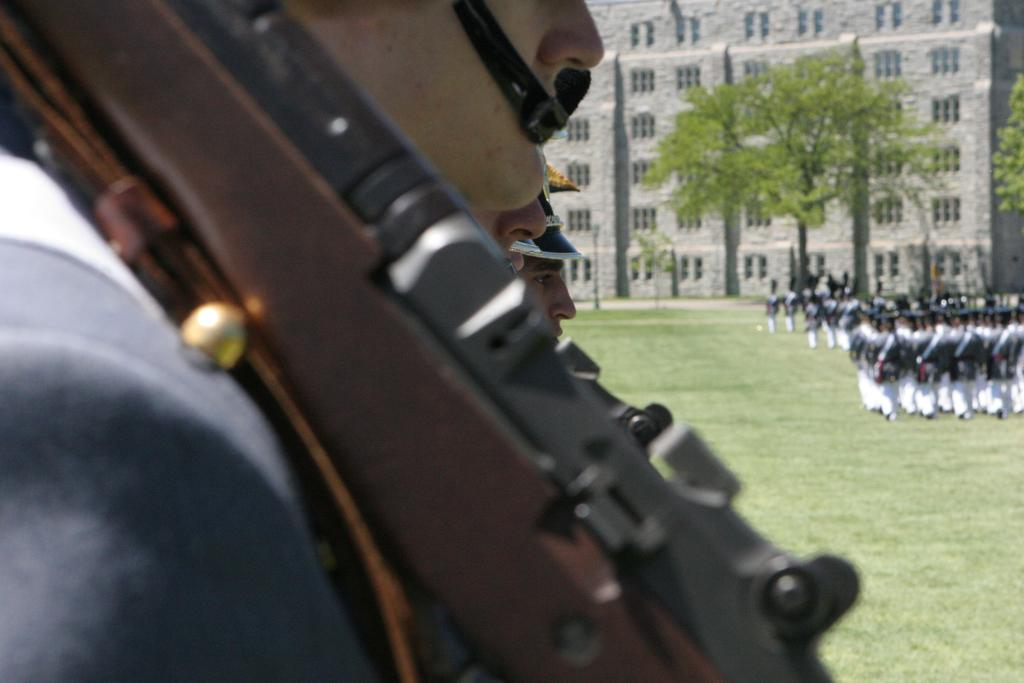Rifle: (0, 0, 860, 682)
